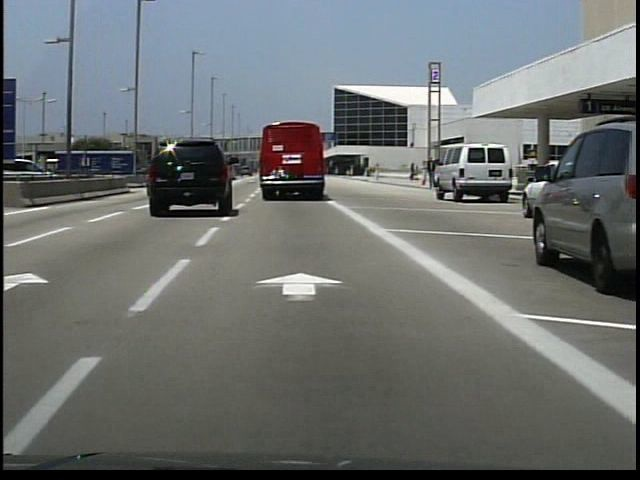person: (426, 157, 437, 192)
